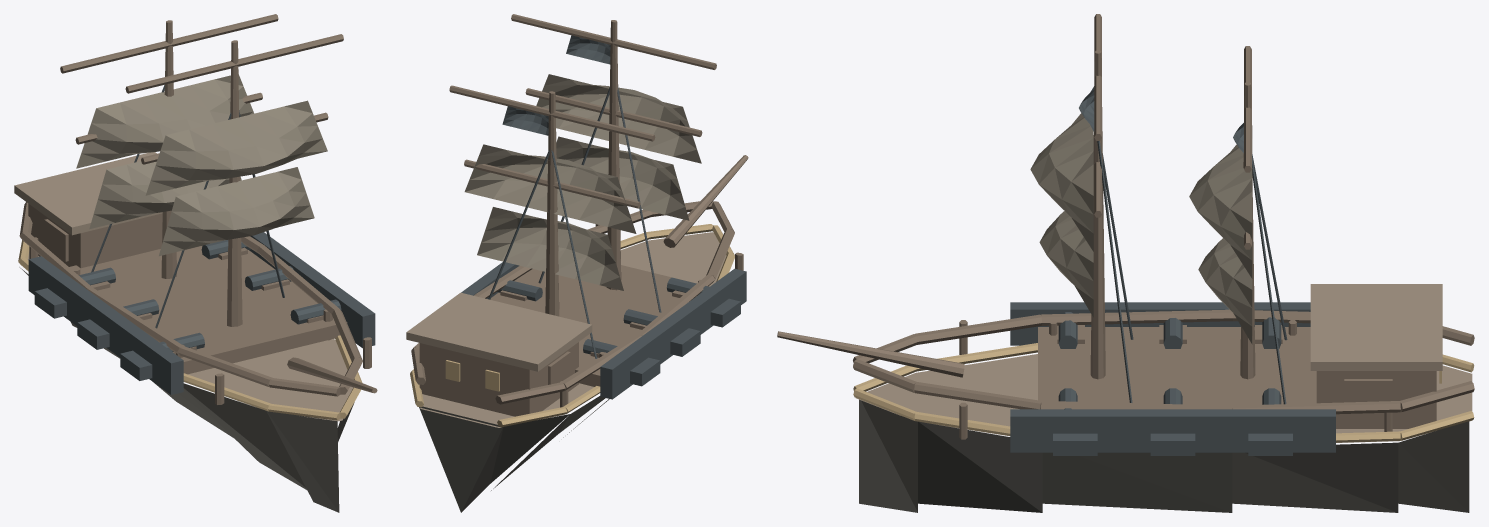
The model's file is npc_gunship_01.glb.
The picture shows the model from 3 angles, left to right: view 1: azimuth 30°, elevation 25°; view 2: azimuth 150°, elevation 25°; view 3: azimuth 270°, elevation 25°; orthographic projection. The views are drawn at different scales.
Parts seen in each view (by area): view 1: M296_npc_gunship_01_Complete_Ship; view 2: M296_npc_gunship_01_Complete_Ship; view 3: M296_npc_gunship_01_Complete_Ship.
Boxes of the visible parts, box(x1,y1,x2,y2) form: M296_npc_gunship_01_Complete_Ship: box(14, 14, 377, 512); M296_npc_gunship_01_Complete_Ship: box(406, 14, 748, 512); M296_npc_gunship_01_Complete_Ship: box(777, 14, 1474, 512).
Bounding box in the file's own units: 3.26 × 5.47 × 7.49.
